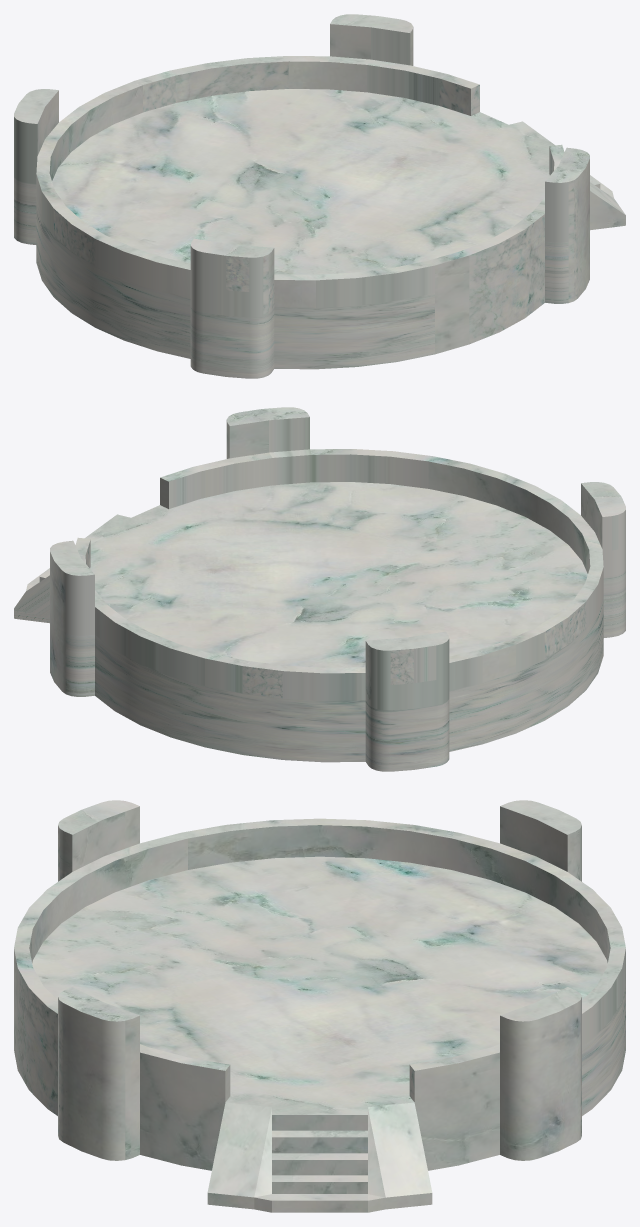
File: platform.glb
The picture shows the model from 3 angles, top to bottom: view 1: azimuth 30°, elevation 25°; view 2: azimuth 150°, elevation 25°; view 3: azimuth 270°, elevation 25°; orthographic projection. The views are drawn at different scales.
Parts seen in each view (by area): view 1: Cylinder.001; view 2: Cylinder.001; view 3: Cylinder.001.
Boxes of the visible parts, box(x1,y1,x2,y2) form: Cylinder.001: box(14, 14, 625, 378); Cylinder.001: box(14, 407, 625, 771); Cylinder.001: box(14, 800, 625, 1212).
Bounding box in the file's own units: 10.83 × 2.41 × 9.6.
Materials: 1 (1 with a texture image).
